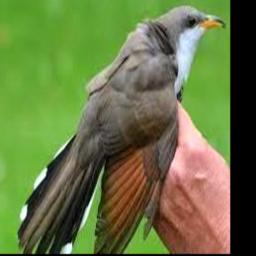Cuckoo: (17, 4, 225, 254)
